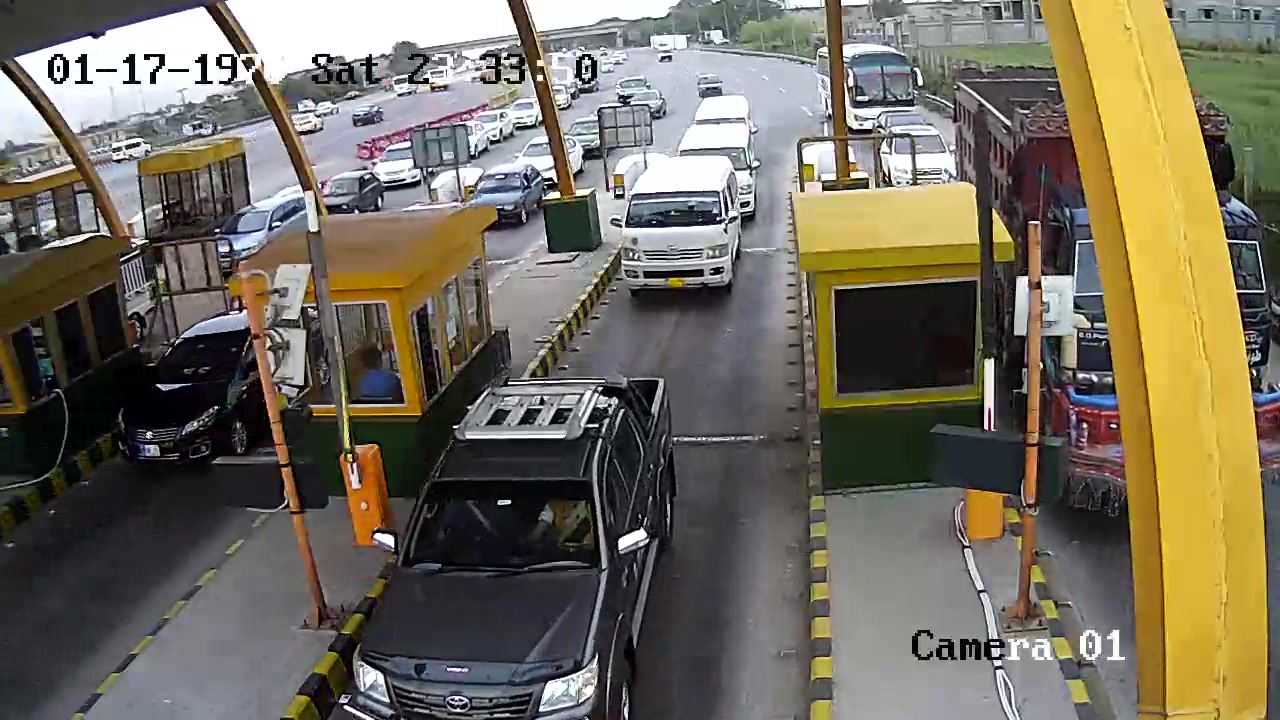F2: (605, 151, 743, 307)
